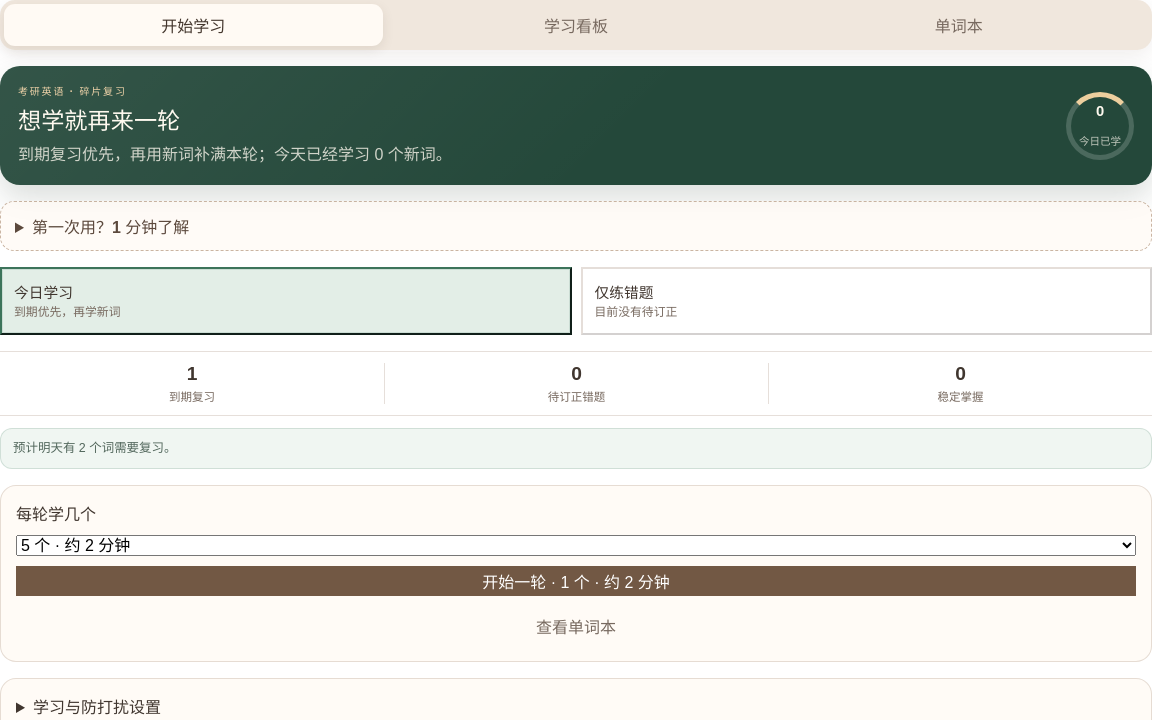
Test: learning micro-session › explains first use and disables file operations in browser preview
This screenshot has width=1152, height=720.
Click the heading "学习与防打扰设置" at (97, 707), box [33,699,161,716]
(page scrolled)
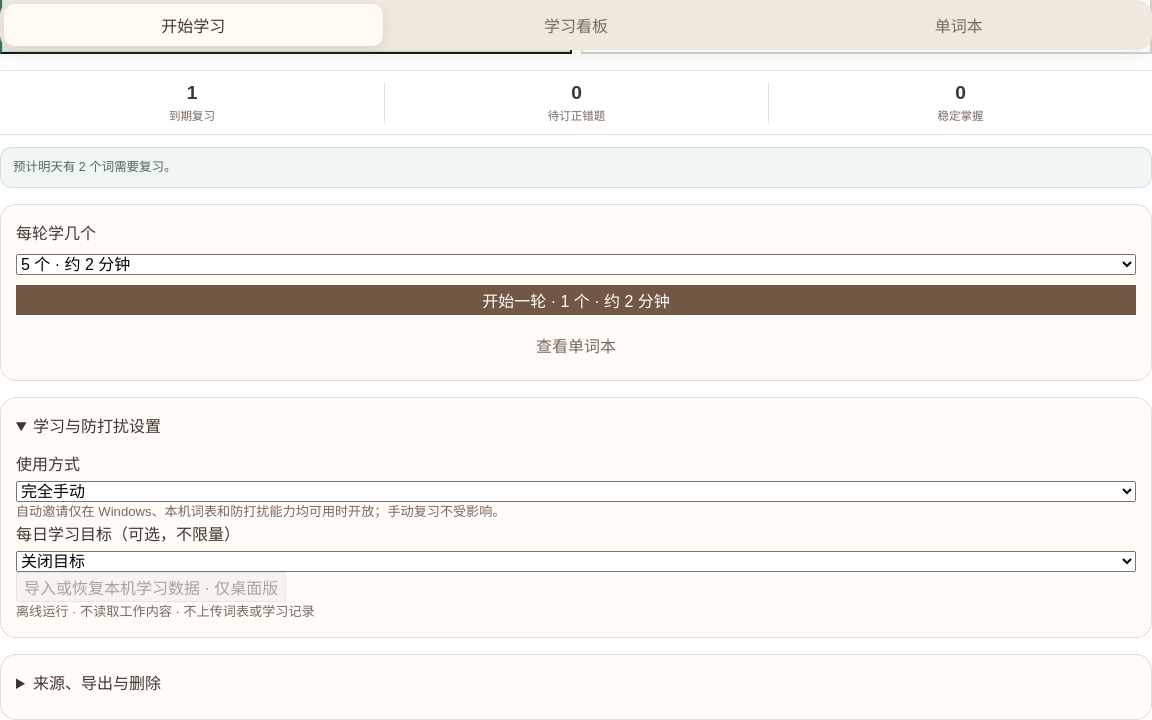
expect the button "导入或恢复本机学习数据 · 仅桌面版" is disabled: met, box [16,572,286,602]
Click the heading "来源、导出与删除" at (97, 684), box [33,675,161,692]
(page scrolled)
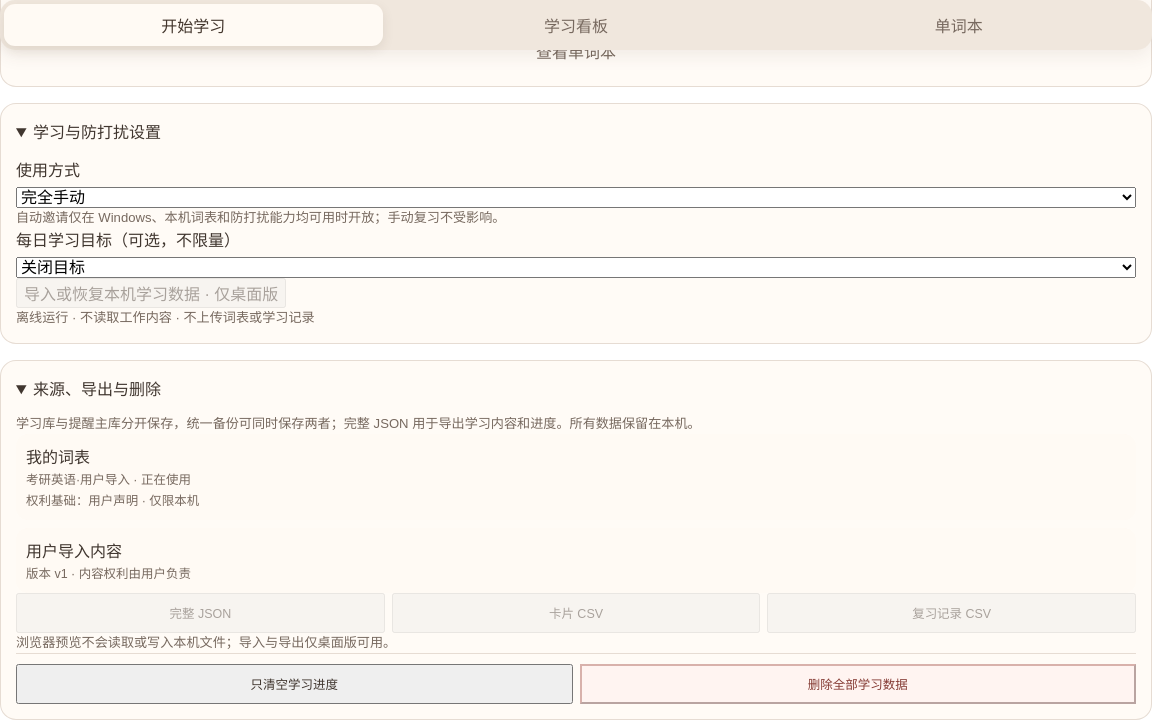
expect the button "完整 JSON" is disabled: met, box [16,593,385,633]
expect the button "卡片 CSV" is disabled: met, box [392,593,760,633]
expect the button "复习记录 CSV" is disabled: met, box [767,593,1136,633]
